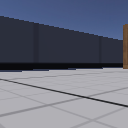obstacle: (123, 23, 128, 69)
